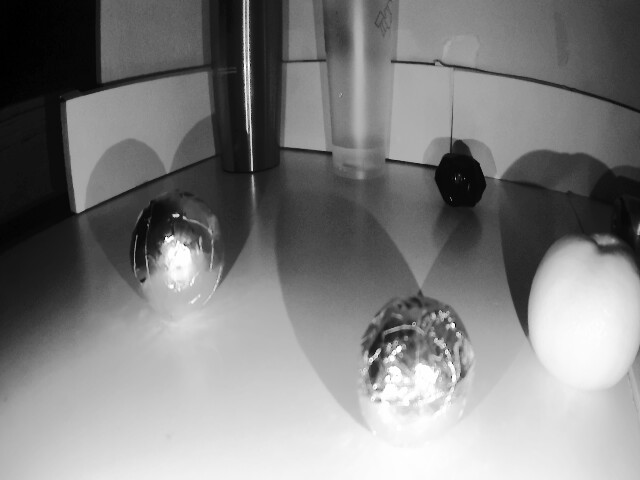black: (359, 284, 481, 444), (121, 180, 236, 316)
silver: (433, 148, 490, 219)
